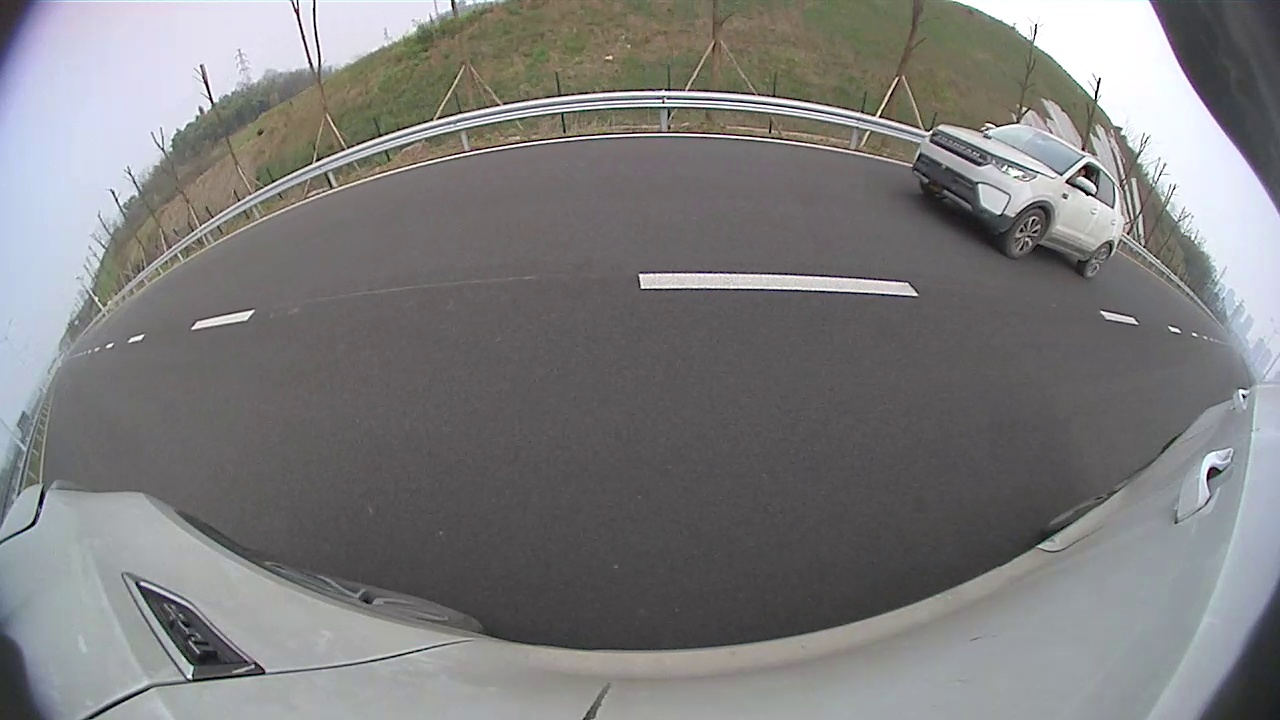car: (913, 124, 1128, 278)
front: (1007, 208, 1047, 259)
rear: (1083, 244, 1111, 279)
